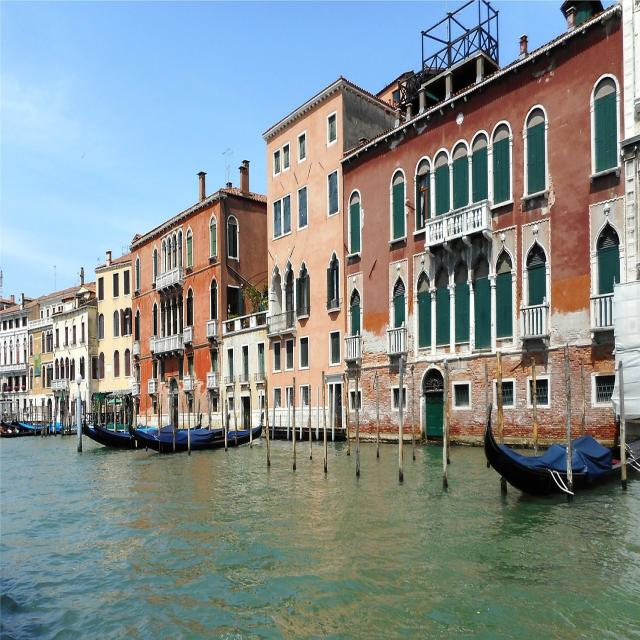boat: (471, 393, 640, 518), (125, 393, 275, 467), (72, 389, 162, 454)
